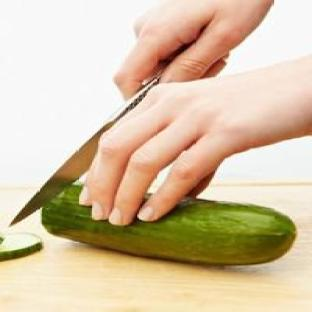Cucumber: (43, 185, 296, 265), (0, 233, 42, 260), (0, 234, 3, 244)
